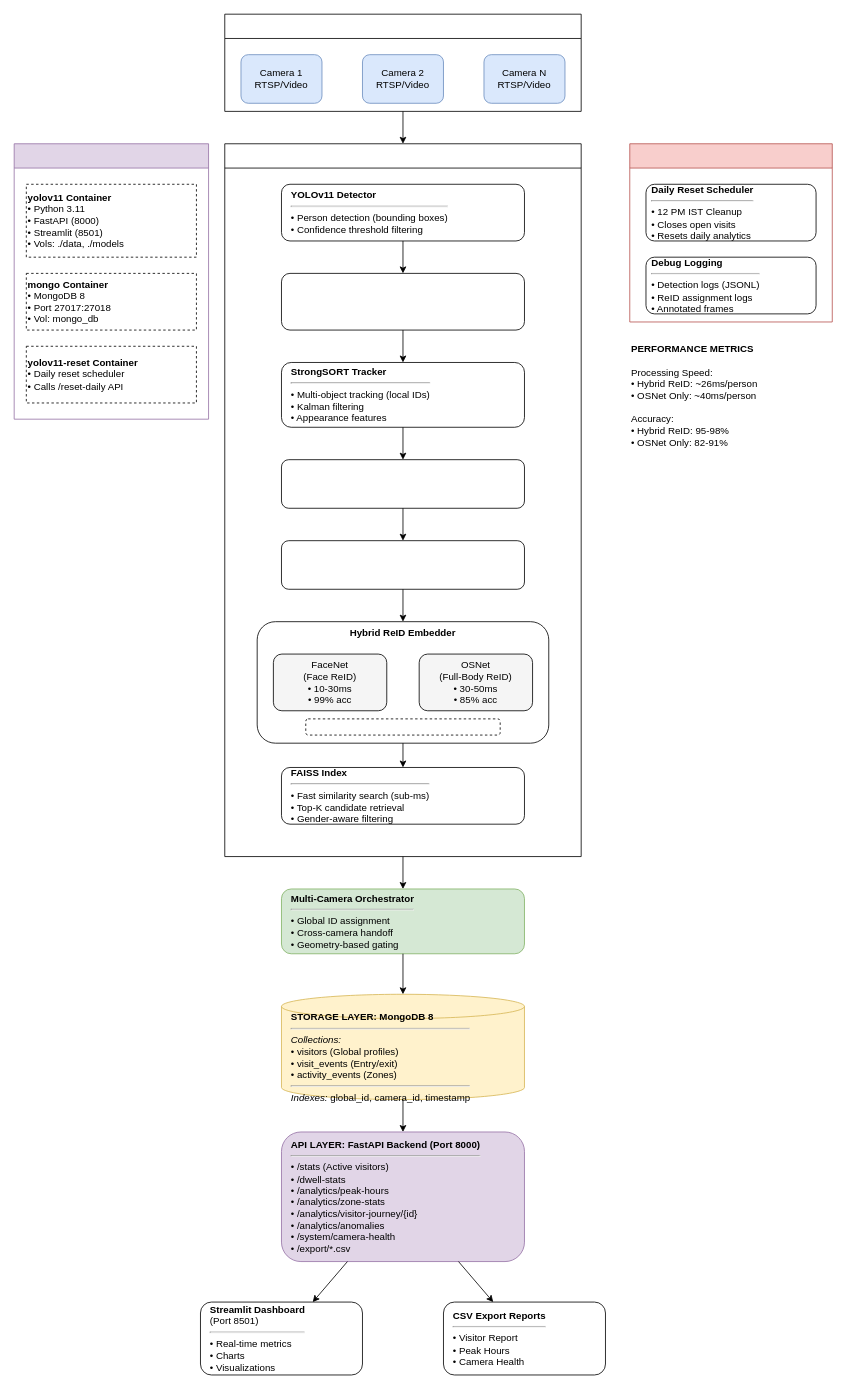
Some shapes in this 846 by 1389 pixel diagram are drawn without their labels. The shapes that lost their labels are listed below. From the top down, each one's box as (x1, y1, x2, y2) in pixels, then its label:
(224, 13, 581, 111): INPUT LAYER
(629, 143, 832, 322): SUPPORTING SERVICES
(13, 143, 209, 419): DEPLOYMENT (Docker Compose)
(281, 273, 524, 330): SAM Segmenter • Person segmentation (masks) • Mask refinement
(281, 459, 524, 508): Crop Extraction • Extract person crops • Add padding for context
(224, 143, 581, 857): PROCESSING PIPELINE
(281, 540, 524, 589): Gender Classifier • OpenCV DNN model (~5-10ms) • Male/Female/Unknown
(305, 718, 500, 735): Multi-Frame Feature Averaging (EMA)
